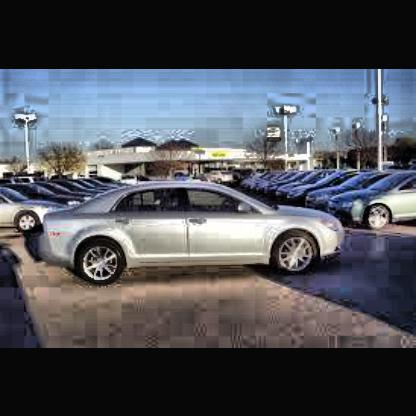Chevrolet Malibu Sedan 2007: (26, 157, 366, 298)
